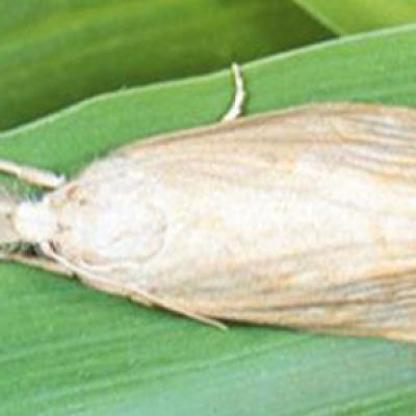stem-borer: (2, 62, 416, 348)
